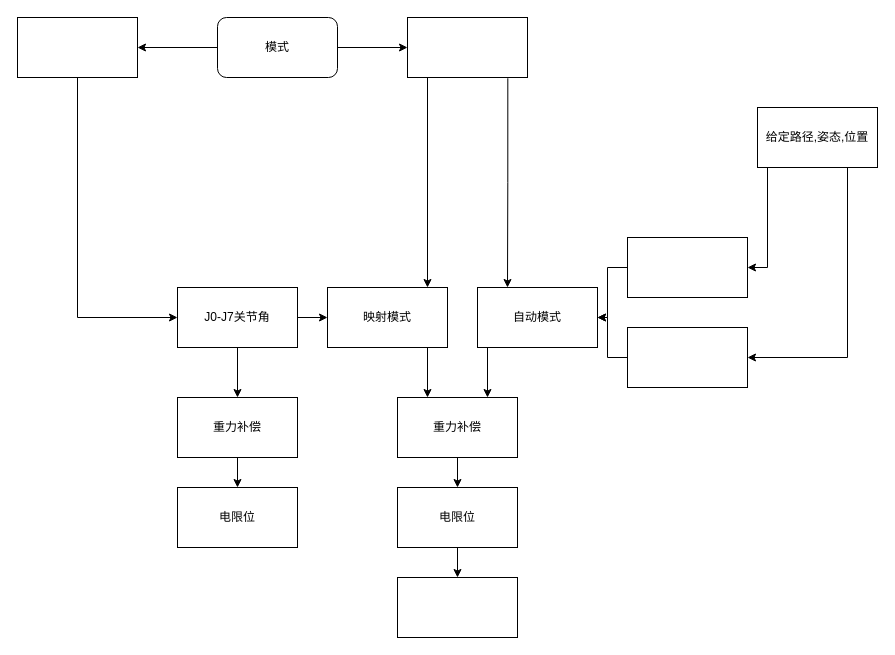
This 895x655 diagram has some shape labels left out. The shapes that lost their labels are listed below. From the top down, each one's box as (x1, y1, x2, y2) in pixels, then its label:
(16, 16, 138, 78): master
(406, 16, 528, 78): servant
(626, 236, 748, 298): 运动学逆解析
(626, 326, 748, 388): 轨迹规划
(396, 576, 518, 638): 关节角闭环
